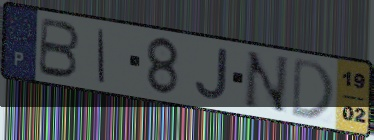8: (143, 34, 183, 97)
B: (35, 15, 82, 81)
D: (289, 55, 336, 121)
I: (96, 26, 107, 86)
J: (193, 47, 230, 103)
N: (240, 49, 291, 117)
